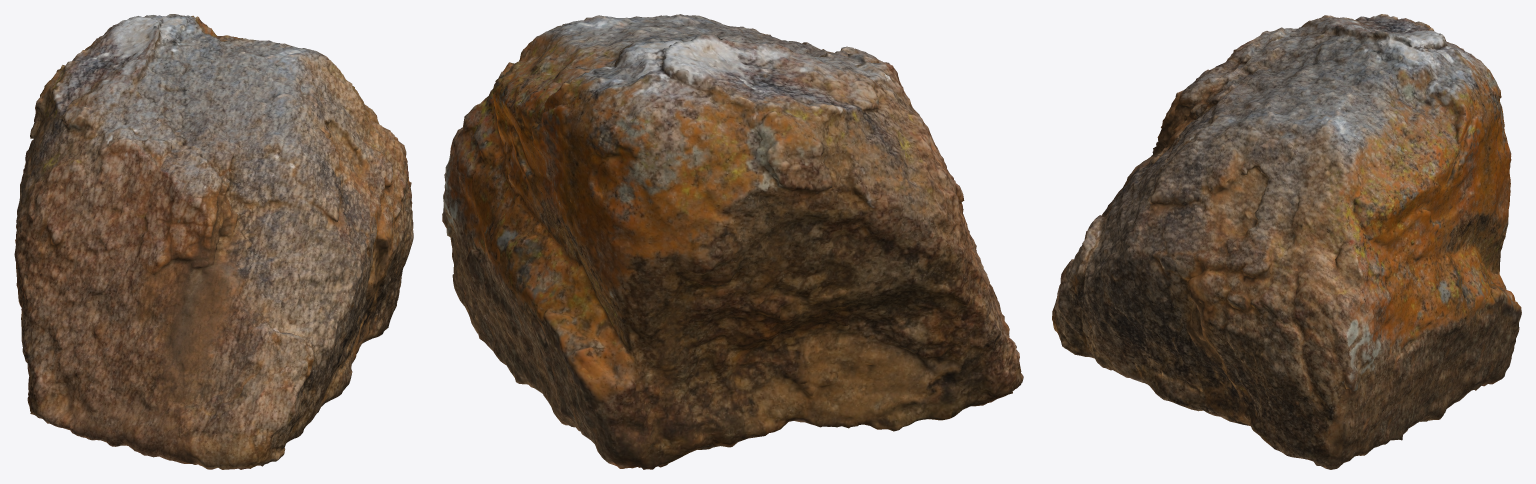
File: corealm_scree_slide.glb
3 views of the same model, side by side, from view 1: azimuth 30°, elevation 25°; view 2: azimuth 150°, elevation 25°; view 3: azimuth 270°, elevation 25° (orthographic). The views are drawn at different scales.
Parts seen in each view (by area): view 1: original Namaqualand Boulder 04; view 2: original Namaqualand Boulder 04; view 3: original Namaqualand Boulder 04.
Boxes of the visible parts, left/top/right/bottom form: original Namaqualand Boulder 04: left=14, top=14, right=413, bottom=469; original Namaqualand Boulder 04: left=442, top=14, right=1023, bottom=469; original Namaqualand Boulder 04: left=1052, top=14, right=1521, bottom=469.
Bounding box in the file's own units: 6 × 4.38 × 5.44.
1 material, 1 textured.
